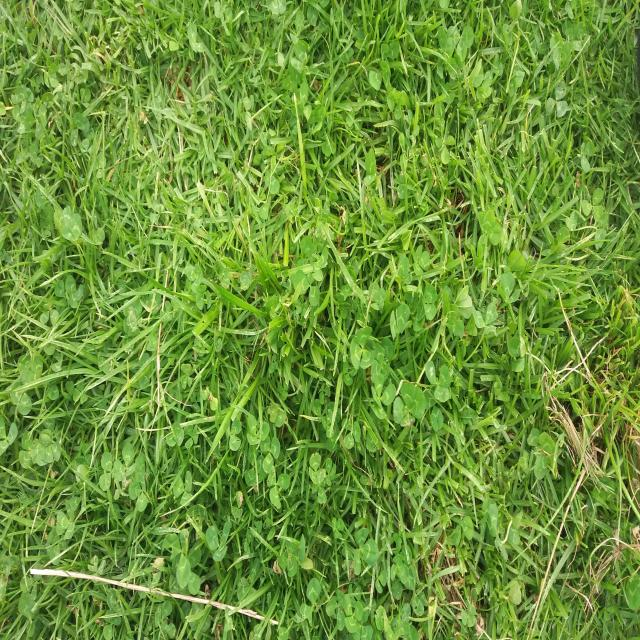Four Leaf Clover: (396, 382, 426, 427), (371, 373, 394, 419), (186, 263, 202, 292), (240, 270, 252, 291)
